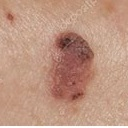Squamous Carcinoma: (54, 30, 96, 69)
